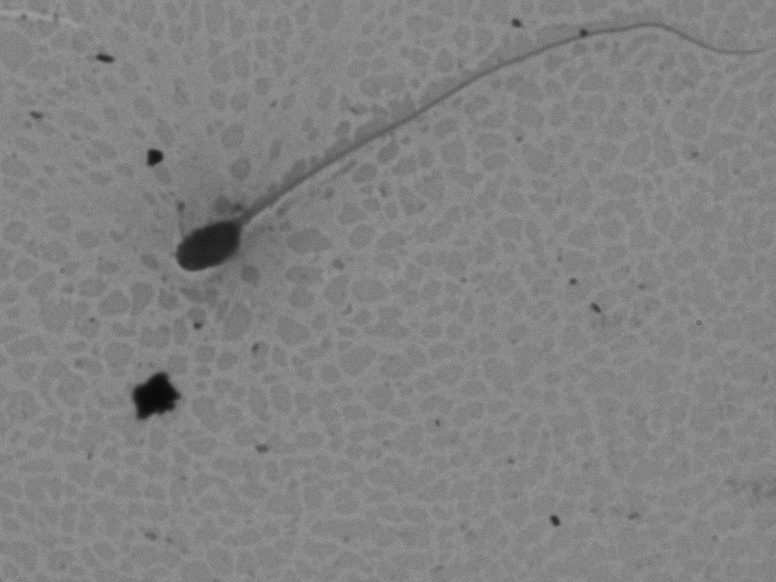Normal: (148, 13, 759, 287)
